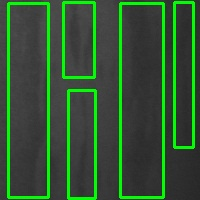inclusion: (120, 3, 163, 197), (8, 3, 48, 197), (68, 90, 95, 198), (174, 2, 193, 147), (63, 2, 94, 77)
